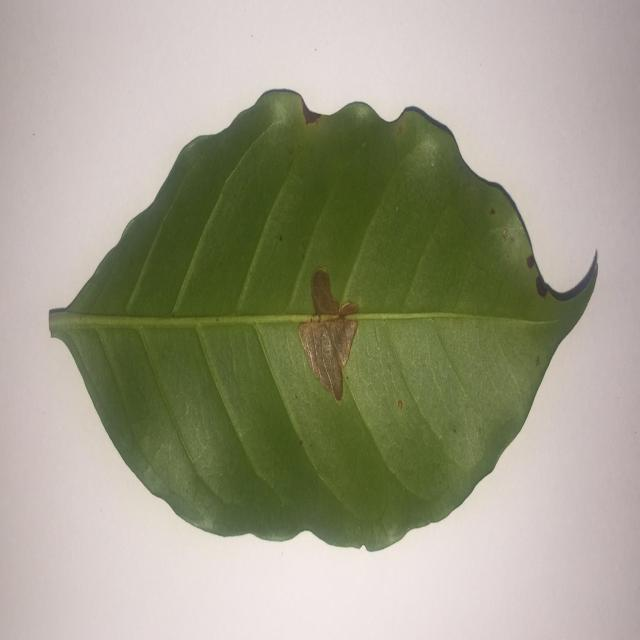Plaga-Minador: (47, 89, 598, 554)
